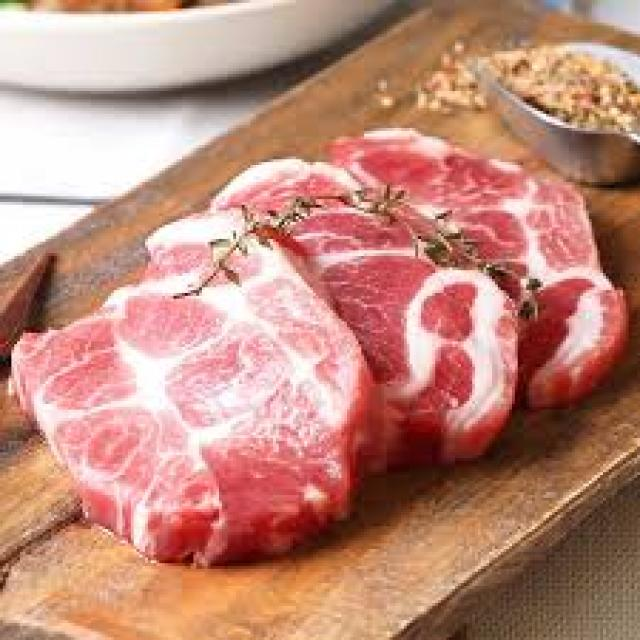pork: (11, 210, 373, 565)
